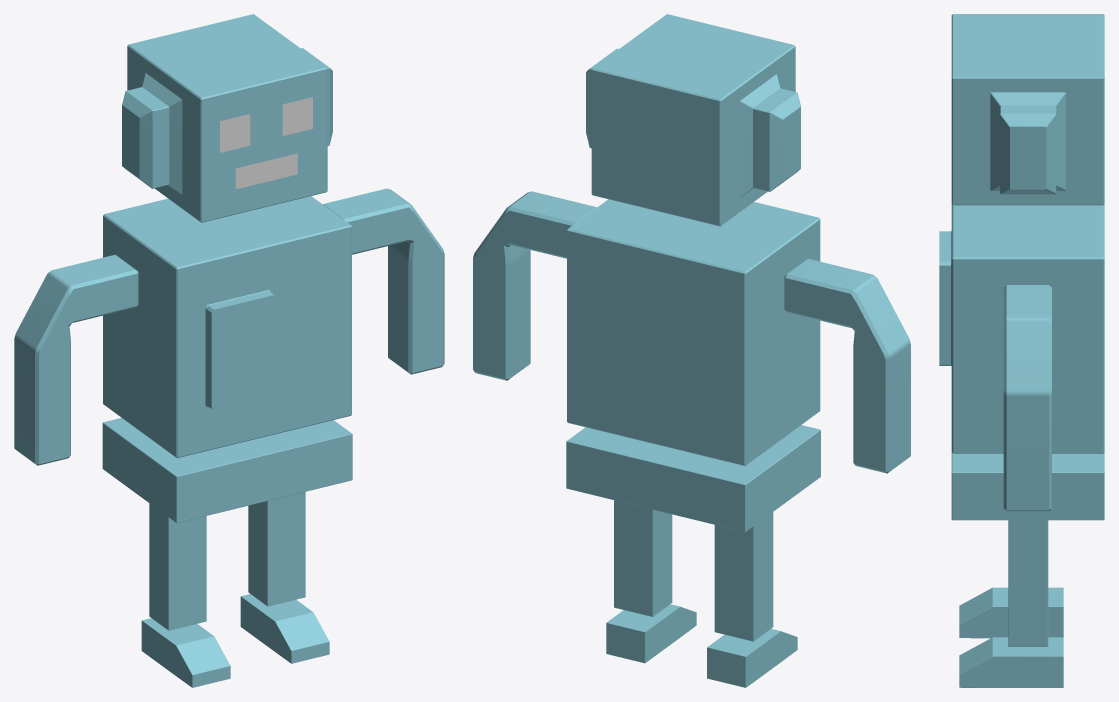
File: robot_normal.fbx
3 renders of one model, left to right at view 1: azimuth 30°, elevation 25°; view 2: azimuth 150°, elevation 25°; view 3: azimuth 270°, elevation 25°, orthographic. The views are drawn at different scales.
Visible parts, largest first — view 1: pCube1, pCube2, pCube3, pCube11, pCube10, pCube4, pCube5, pCube7, pCube6, pCube14, pCube13, pCube12; view 2: pCube1, pCube2, pCube3, pCube11, pCube10, pCube4, pCube5, pCube6, pCube7; view 3: pCube1, pCube2, pCube10, pCube3, pCube5, pCube6, pCube7.
Part boxes in pixels (<box>): pCube1: <box>103,196,351,458</box>; pCube2: <box>122,14,332,222</box>; pCube3: <box>102,418,352,522</box>; pCube11: <box>14,254,138,465</box>; pCube10: <box>323,188,444,374</box>; pCube4: <box>149,503,206,630</box>; pCube5: <box>248,492,305,606</box>; pCube7: <box>141,618,230,687</box>; pCube6: <box>240,594,329,663</box>; pCube14: <box>235,153,297,189</box>; pCube13: <box>220,114,250,152</box>; pCube12: <box>282,97,312,135</box>; pCube1: <box>567,199,820,465</box>; pCube2: <box>586,14,800,226</box>; pCube3: <box>566,425,820,531</box>; pCube11: <box>784,258,910,473</box>; pCube10: <box>473,191,596,380</box>; pCube4: <box>714,512,773,641</box>; pCube5: <box>614,500,672,616</box>; pCube6: <box>606,604,696,663</box>; pCube7: <box>707,629,797,687</box>; pCube1: <box>939,204,1104,453</box>; pCube2: <box>951,14,1104,205</box>; pCube10: <box>1003,285,1051,511</box>; pCube3: <box>951,453,1104,520</box>; pCube5: <box>1008,520,1048,646</box>; pCube6: <box>959,637,1063,687</box>; pCube7: <box>959,587,1063,638</box>.
Bounding box in the file's own units: 41.58 × 57.33 × 14.12.
